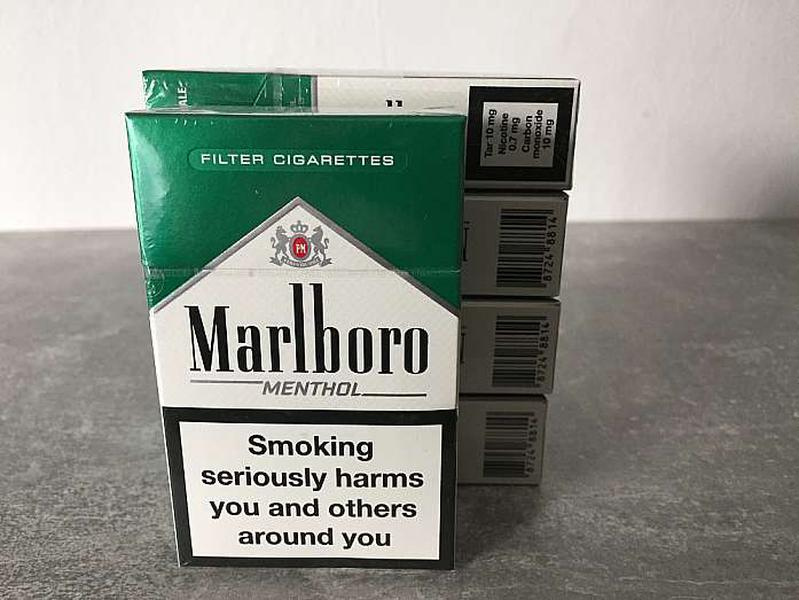marlboro_mentol: (169, 117, 452, 569)
